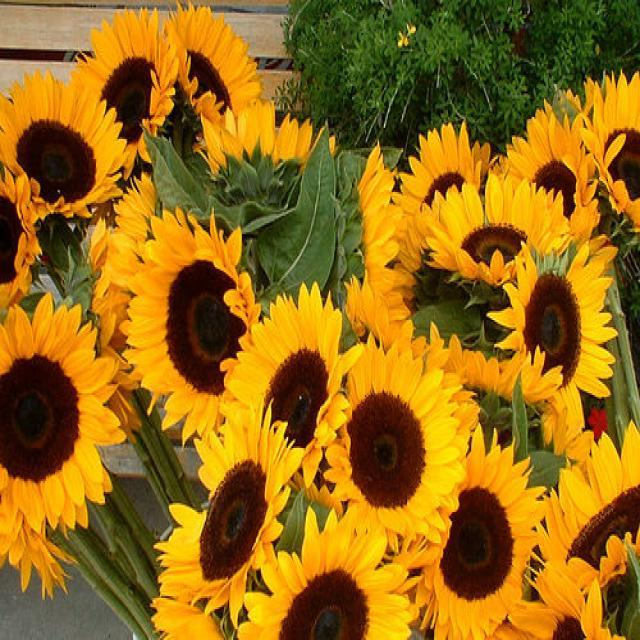sunflower: (116, 206, 262, 446), (151, 398, 305, 624), (218, 284, 362, 488), (0, 294, 120, 535), (418, 422, 547, 636), (324, 336, 463, 532), (240, 508, 411, 640), (484, 239, 618, 400), (0, 66, 128, 218), (530, 422, 640, 592), (71, 7, 178, 178), (424, 171, 563, 284), (86, 219, 140, 448), (168, 3, 261, 125), (203, 95, 333, 176), (507, 102, 598, 211), (581, 68, 640, 222), (363, 142, 407, 318), (398, 121, 482, 203), (346, 272, 426, 354), (0, 520, 76, 601), (507, 566, 586, 640), (0, 167, 42, 304), (112, 172, 152, 288), (440, 340, 514, 388), (148, 597, 224, 640)
